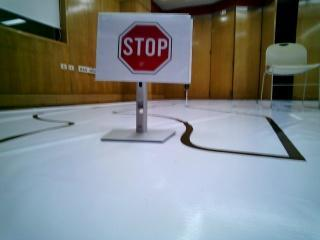stop: (99, 14, 189, 82)
